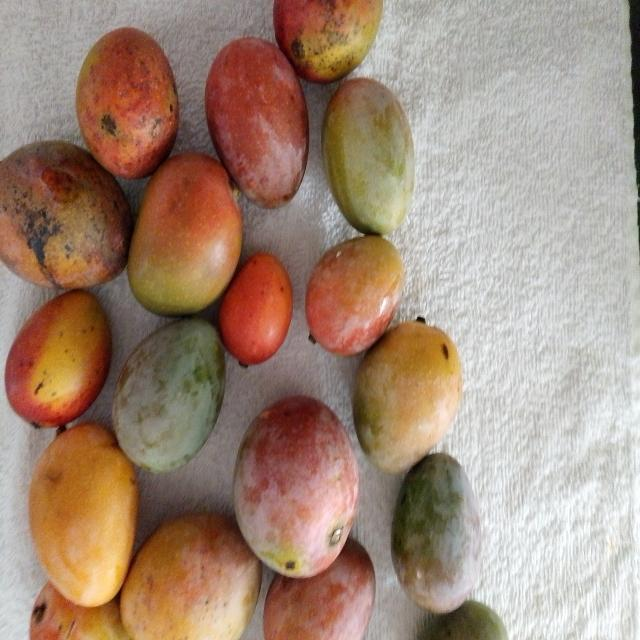mango: (234, 396, 359, 577), (29, 423, 138, 606), (0, 141, 133, 288), (128, 154, 244, 318), (113, 314, 227, 478), (355, 314, 464, 476), (205, 37, 308, 208), (121, 514, 261, 639), (76, 27, 178, 178), (5, 290, 111, 426), (322, 78, 414, 234), (392, 454, 481, 613), (303, 231, 406, 359), (266, 0, 386, 84)
